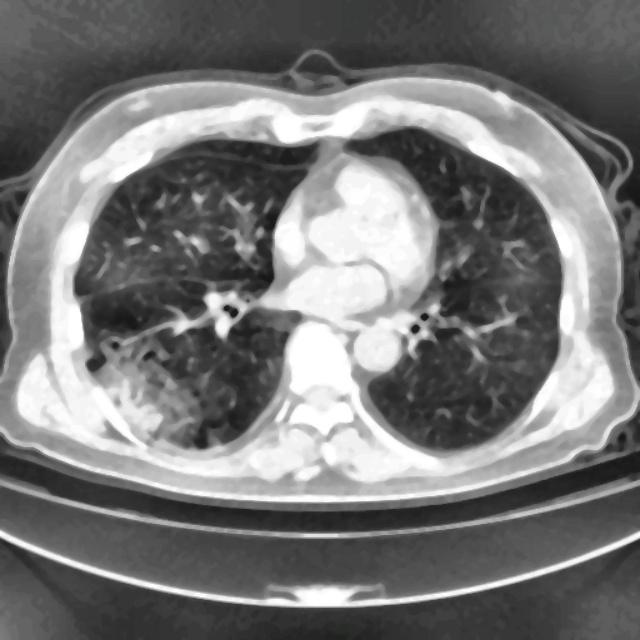covid: (0, 57, 639, 509)
